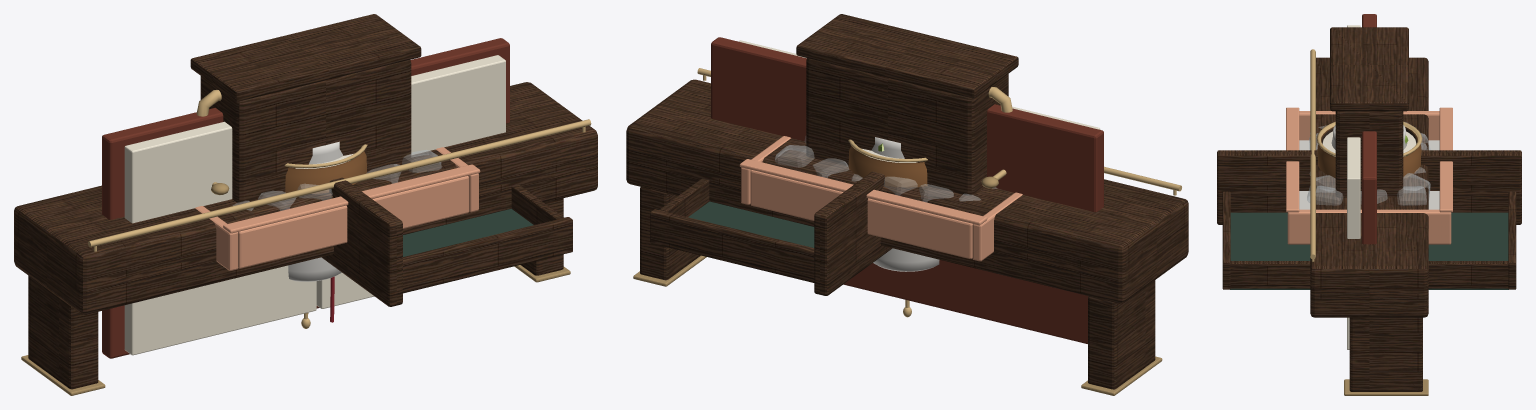
The model's file is utensilios.glb.
The picture shows the model from 3 angles, left to right: view 1: azimuth 30°, elevation 25°; view 2: azimuth 150°, elevation 25°; view 3: azimuth 270°, elevation 25°; orthographic projection. The views are drawn at different scales.
Visible parts, largest first — view 1: suporte_copos, livro, atril, gaveta, cuba_gelo, pote, coqueteleira, pia; view 2: suporte_copos, livro, atril, gaveta, cuba_gelo, pote, coqueteleira, pia; view 3: suporte_copos, gaveta, atril, cuba_gelo, livro, pote, pote_acucar_conteudo.
Boxes of the visible parts, x1,y1,x2,y2 form: suporte_copos: (14,82,597,395); livro: (102,38,509,358); atril: (190,14,421,202); gaveta: (322,177,572,306); cuba_gelo: (195,147,480,270); pote: (284,144,367,193); coqueteleira: (288,141,343,281); pia: (196,89,229,195); suporte_copos: (626,68,1188,395); livro: (711,37,1103,343); atril: (796,14,1018,195); gaveta: (650,171,892,295); cuba_gelo: (739,136,1022,261); pote: (848,139,927,187); coqueteleira: (871,137,939,271); pia: (981,87,1012,188); suporte_copos: (1310,49,1428,395); gaveta: (1217,150,1521,289); atril: (1330,27,1408,197); cuba_gelo: (1286,107,1452,244); livro: (1347,14,1376,349); pote: (1316,121,1422,178); pote_acucar_conteudo: (1322,131,1416,156).
Size of the model in its own units: 0.89 by 0.454 by 0.54.
31 materials, 1 textured.
